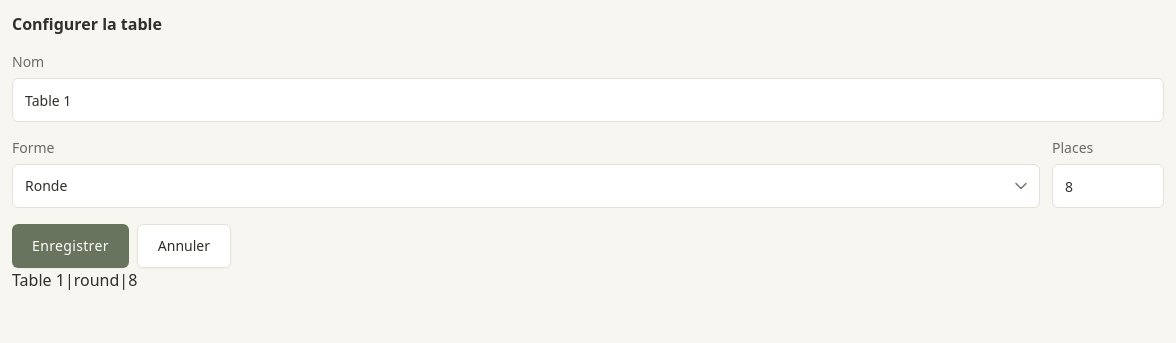
TableConfigSheet › rejects an out-of-range capacity
Replace the text in the number field labelled "Places" with "0" at (1108, 186), box [1052,164,1164,208]
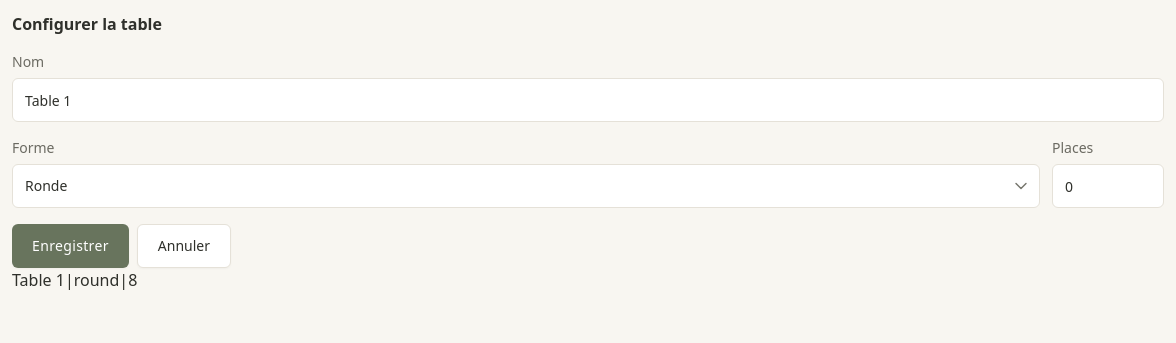
Submit the form
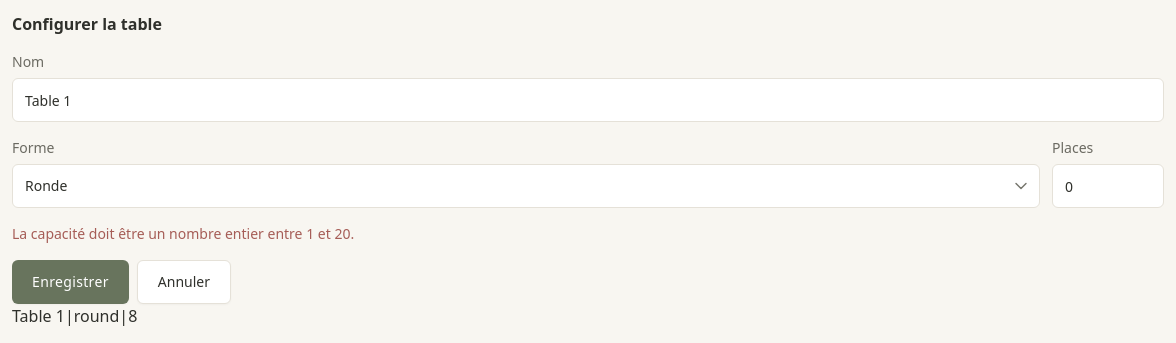
Now the message shows "entre 1 et 20", box [12,224,354,243]
